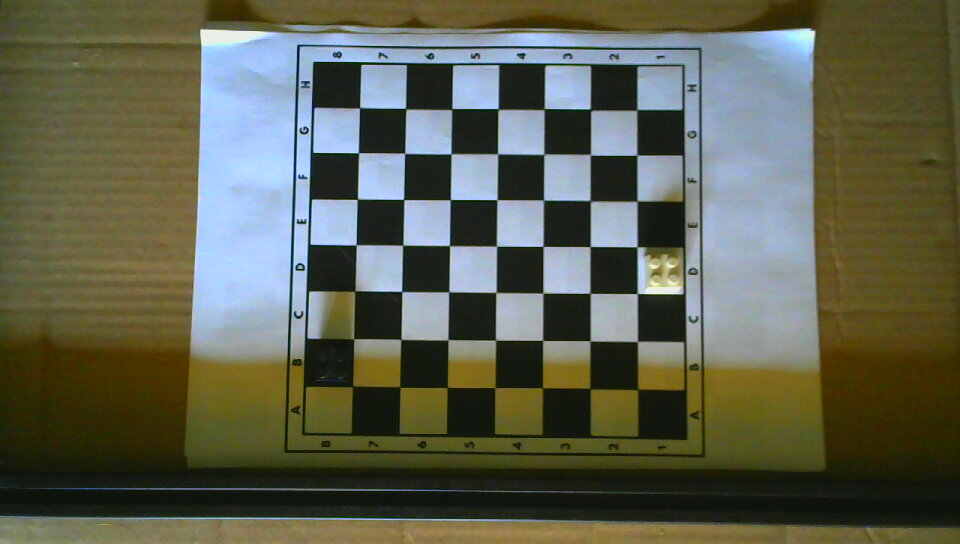bp: (314, 346, 351, 384)
wp: (643, 252, 683, 293)
